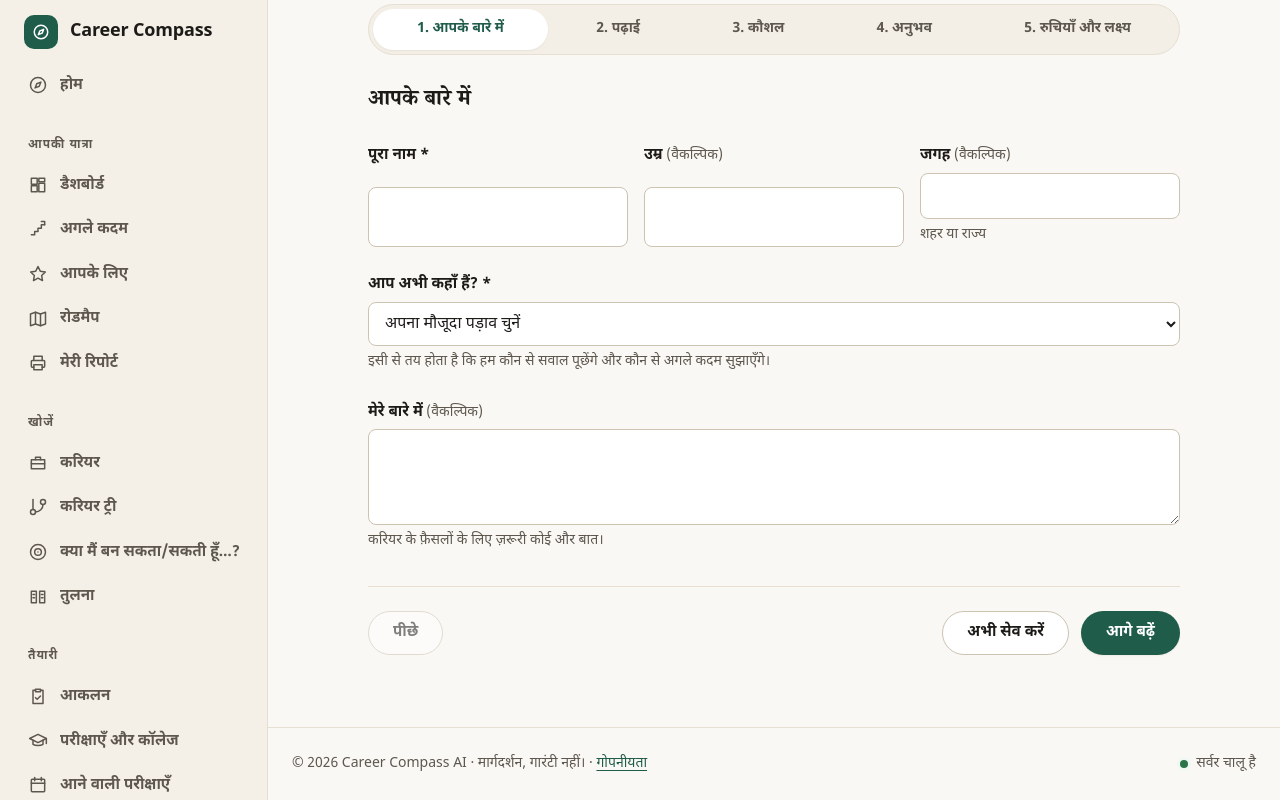
Profile and dashboard in Hindi › profile form, choice lists and validation are in Hindi
(page scrolled)
Expected: the heading "आपके बारे में" is shown, [368, 84, 470, 118]
Step 1. Click the button "आगे बढ़ें" → x=1130, y=633, box [1081, 611, 1180, 655]
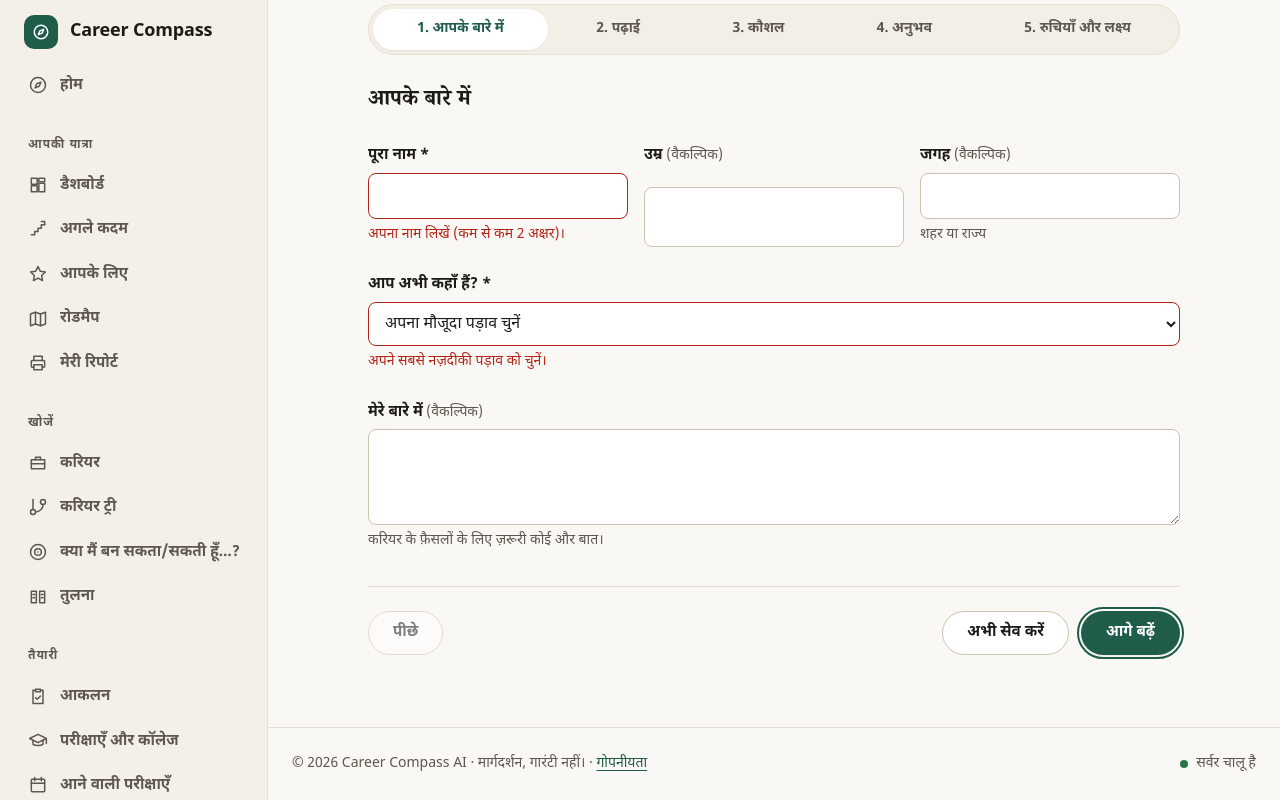
Expected: the text "अपना नाम लिखें (कम से कम 2 अक्षर)।" is shown, [368, 225, 565, 244]
